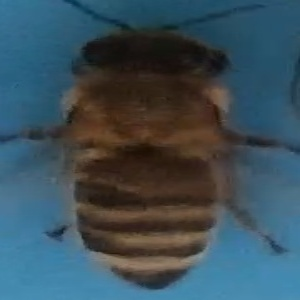bee: (23, 17, 282, 291)
